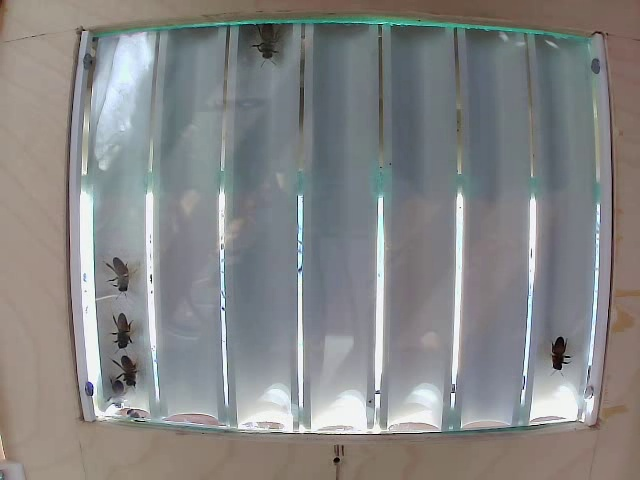bee: (257, 16, 297, 77), (551, 331, 582, 391), (107, 356, 150, 388), (108, 312, 140, 346), (106, 254, 133, 278)
